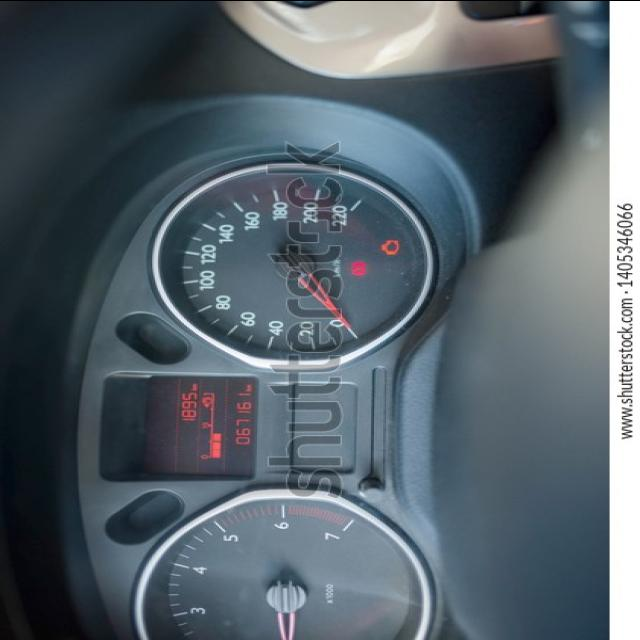Braking System Issue: (348, 260, 368, 278)
Check Engine: (378, 238, 402, 256)
